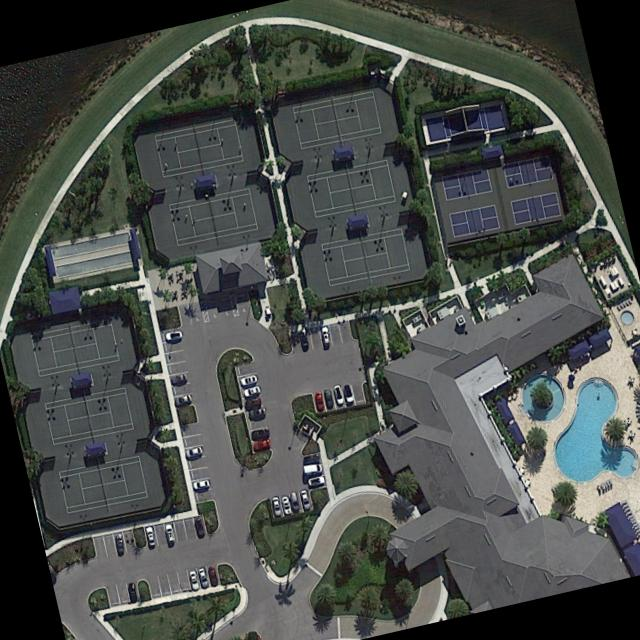small-vehicle: (196, 565, 210, 587), (332, 382, 346, 404), (270, 493, 283, 516), (299, 488, 312, 510), (298, 325, 310, 348), (187, 568, 200, 589), (164, 521, 177, 542), (251, 437, 272, 450), (280, 492, 293, 513), (144, 524, 156, 545), (193, 514, 205, 535), (320, 323, 332, 344), (289, 489, 301, 510), (307, 473, 326, 486), (303, 462, 323, 474), (207, 564, 219, 584), (313, 390, 325, 410), (342, 381, 354, 401), (114, 531, 125, 552), (174, 393, 193, 405), (323, 387, 335, 406), (248, 405, 266, 417), (185, 444, 203, 456), (193, 477, 211, 489), (164, 328, 183, 339), (127, 581, 138, 600), (240, 373, 257, 385), (243, 384, 260, 396), (251, 427, 269, 438), (245, 396, 262, 407), (171, 372, 187, 383), (303, 453, 320, 463)
